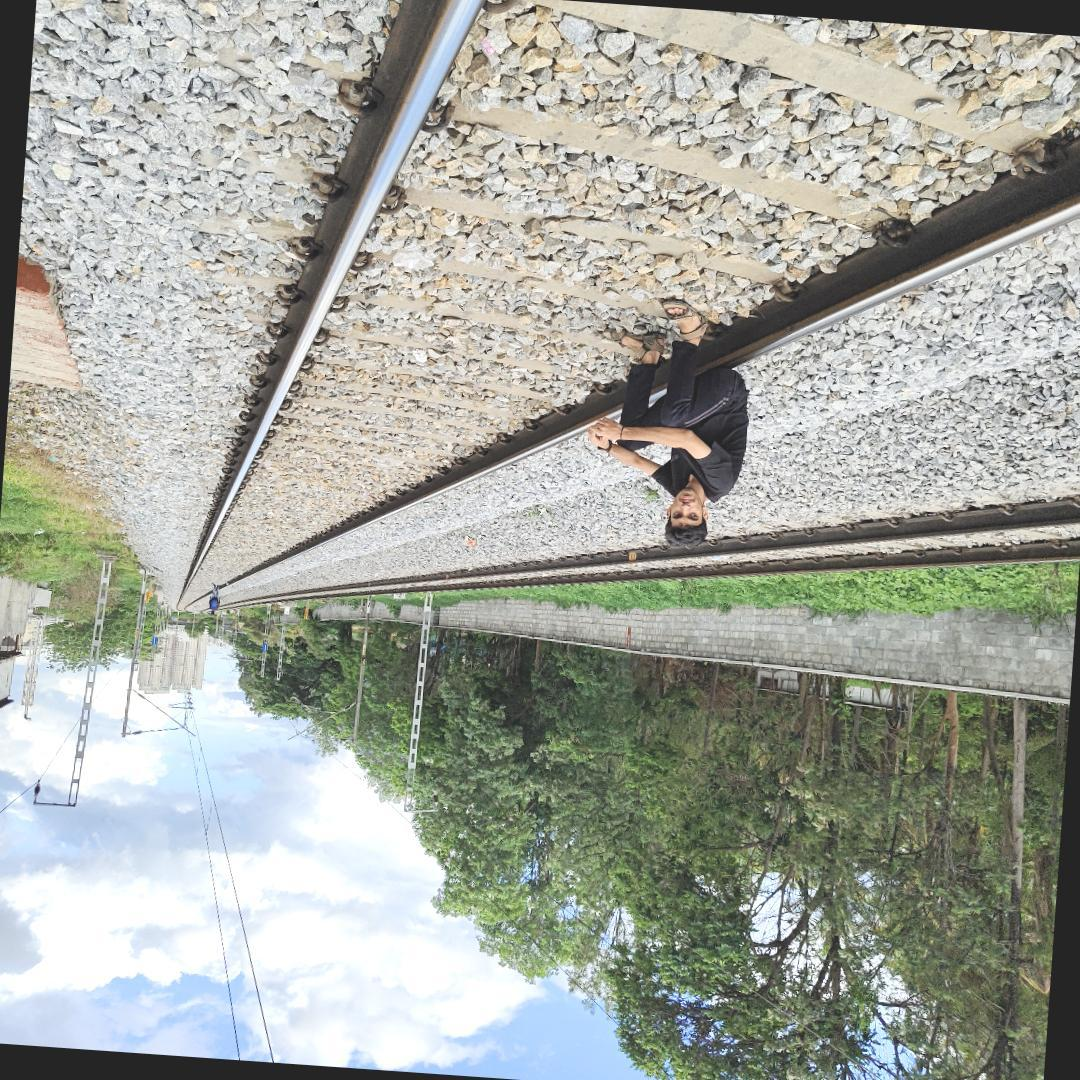sitting: (581, 302, 773, 557)
